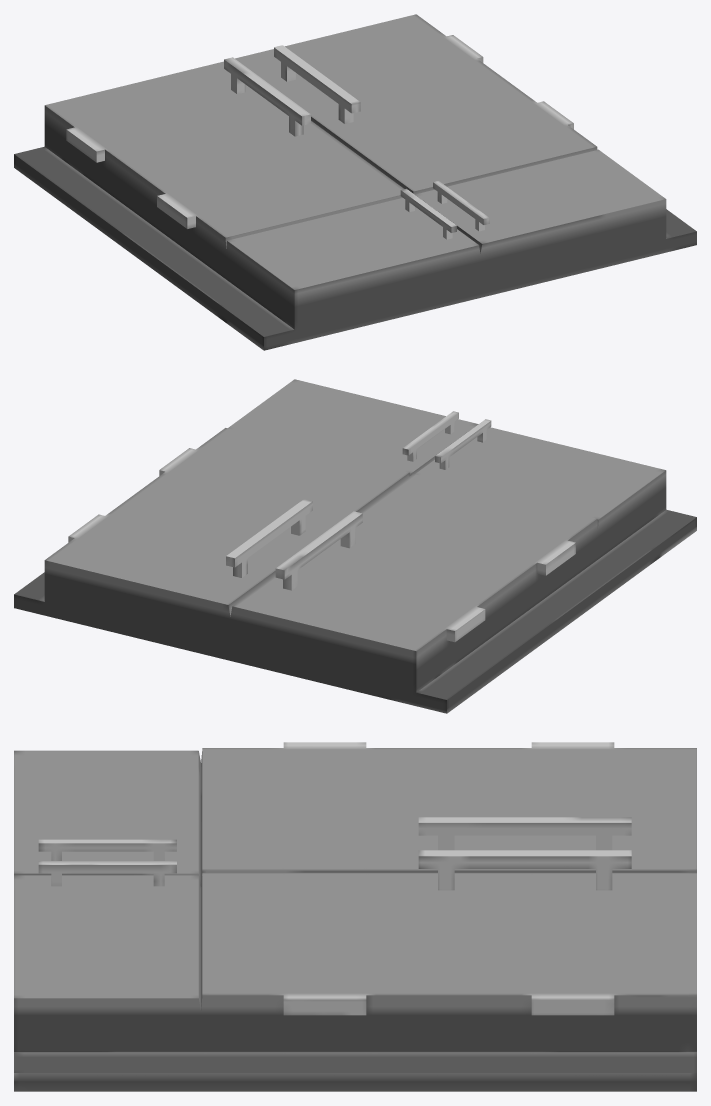
The model's file is Cabinet_B.fbx.
3 renders of one model, top to bottom at view 1: azimuth 30°, elevation 25°; view 2: azimuth 150°, elevation 25°; view 3: azimuth 270°, elevation 25°, orthographic. The views are drawn at different scales.
Parts seen in each view (by area): view 1: Cabinet_B; view 2: Cabinet_B; view 3: Cabinet_B.
Part boxes in pixels (box(x1,y1,x2,y2)): Cabinet_B: box(14, 14, 696, 350); Cabinet_B: box(14, 379, 696, 713); Cabinet_B: box(14, 742, 696, 1091).
Bounding box in the file's own units: 200 × 35.47 × 200.
